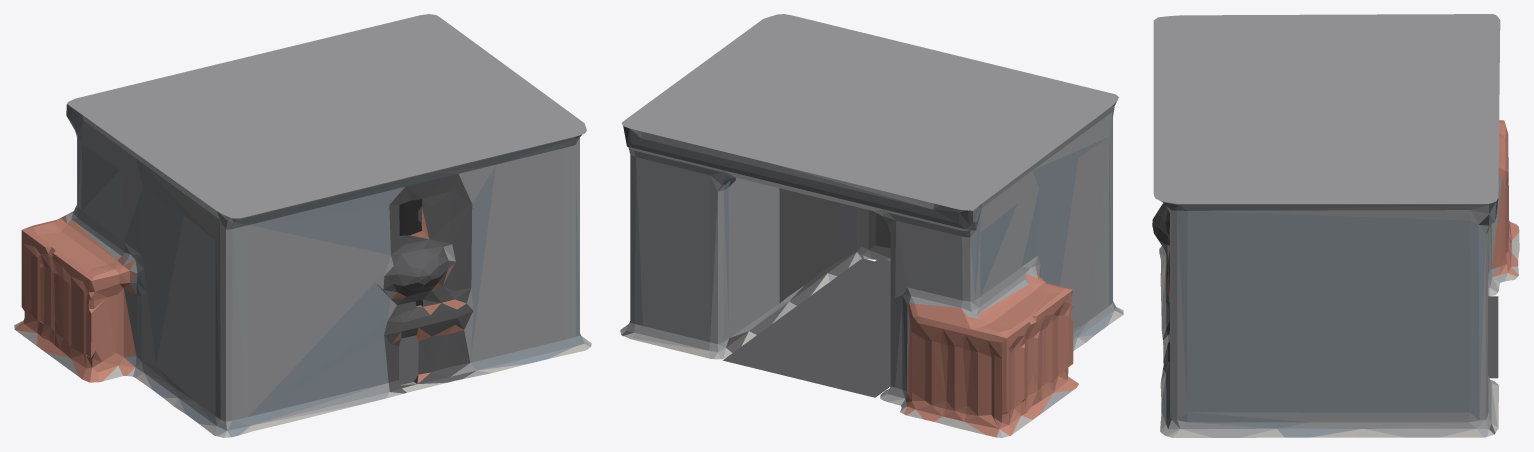
File: etape-1.glb
3 renders of one model, left to right at view 1: azimuth 30°, elevation 25°; view 2: azimuth 150°, elevation 25°; view 3: azimuth 270°, elevation 25°, orthographic. The views are drawn at different scales.
Visible parts, largest first — view 1: geometry_0; view 2: geometry_0; view 3: geometry_0.
Part boxes in pixels (x1,y1,x2,y2): geometry_0: [14, 14, 591, 437]; geometry_0: [620, 14, 1123, 437]; geometry_0: [1152, 14, 1519, 437].
Size of the model in its own units: 0.9474 by 0.4738 by 0.6805.
